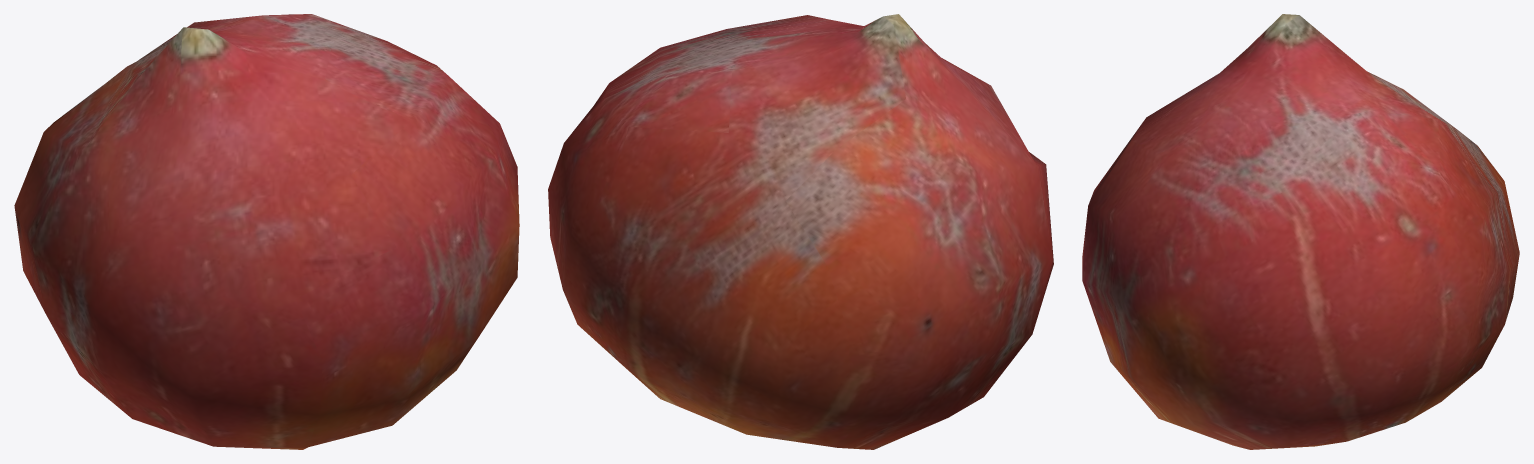
The model's file is A147_Pumpkin_low.fbx.
3 renders of one model, left to right at view 1: azimuth 30°, elevation 25°; view 2: azimuth 150°, elevation 25°; view 3: azimuth 270°, elevation 25°, orthographic. The views are drawn at different scales.
Visible parts, largest first — view 1: A147_Pumpkin_low; view 2: A147_Pumpkin_low; view 3: A147_Pumpkin_low.
Boxes of the visible parts, left/top/right/bottom form: A147_Pumpkin_low: left=14, top=14, right=519, bottom=449; A147_Pumpkin_low: left=548, top=14, right=1053, bottom=449; A147_Pumpkin_low: left=1082, top=14, right=1519, bottom=449.
Bounding box in the file's own units: 10.13 × 9.68 × 9.12.
Materials: 1 (1 with a texture image).
